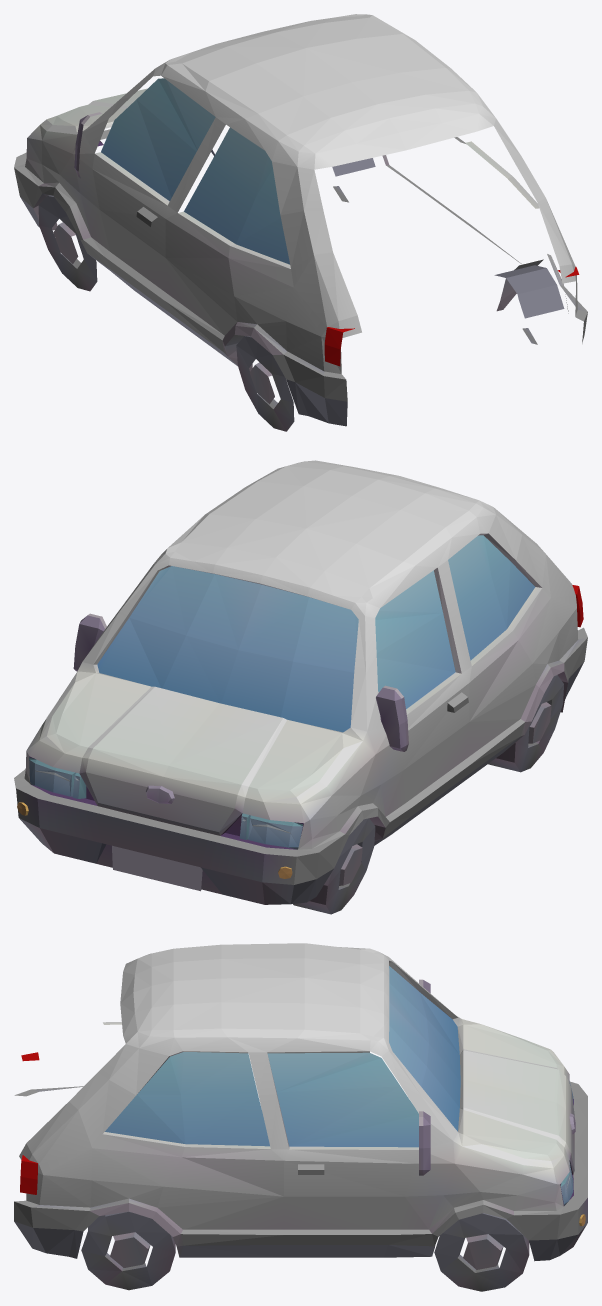
The model's file is hank1_single2_car05.glb.
3 views of the same model, one above another, from view 1: azimuth 30°, elevation 25°; view 2: azimuth 150°, elevation 25°; view 3: azimuth 270°, elevation 25° (orthographic). The views are drawn at different scales.
Parts seen in each view (by area): view 1: hank1_single2_car05; view 2: hank1_single2_car05; view 3: hank1_single2_car05.
Boxes of the visible parts, x1,y1,x2,y2 form: hank1_single2_car05: (14, 14, 587, 431); hank1_single2_car05: (14, 460, 587, 914); hank1_single2_car05: (14, 943, 587, 1291).
Size of the model in its own units: 1.09 by 0.8768 by 1.79.
